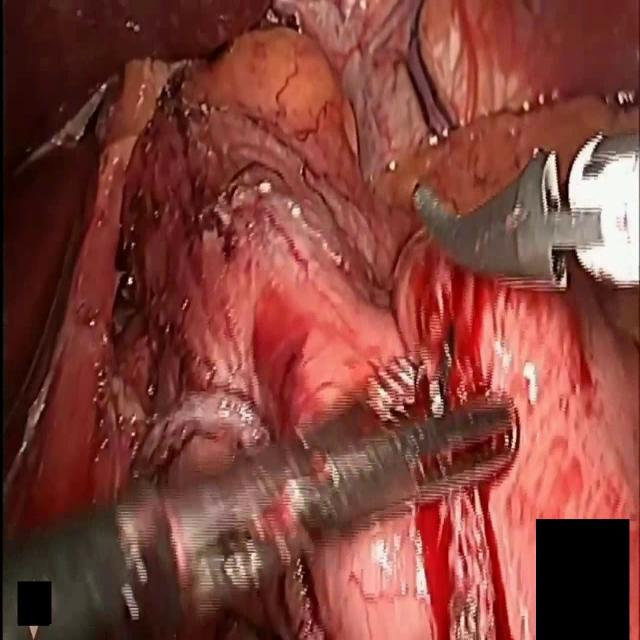surgical-tool: (0, 396, 523, 639), (410, 131, 640, 289)
